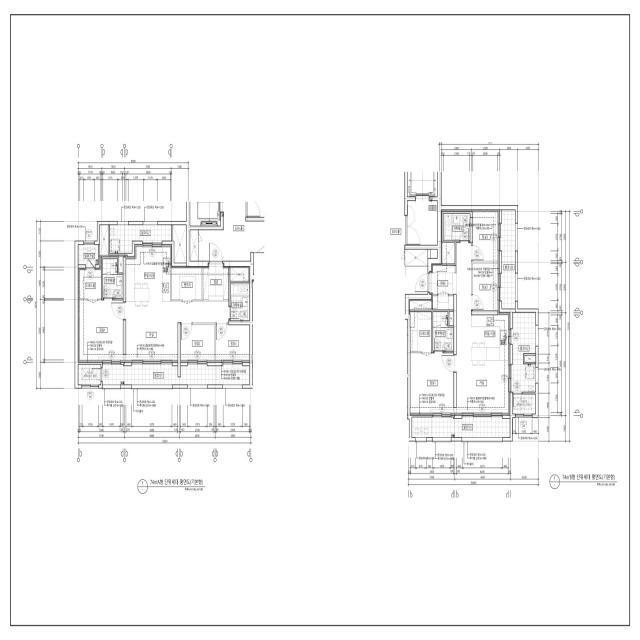space_balconi: (78, 364, 249, 385), (511, 313, 536, 414), (412, 417, 510, 438), (110, 225, 172, 253), (501, 210, 515, 309)
space_bedroom: (78, 300, 123, 362), (410, 353, 454, 415), (473, 210, 499, 261), (216, 325, 250, 362), (473, 264, 499, 311), (181, 325, 214, 362)
space_dressroom: (410, 312, 432, 352), (78, 268, 101, 299)
space_elevator: (407, 172, 437, 197), (190, 202, 221, 226)
space_elevator_hall: (199, 202, 264, 261), (404, 201, 438, 245), (405, 266, 428, 294)
space_front: (429, 264, 456, 310), (203, 264, 229, 300)
space_kitchen: (126, 245, 172, 301), (471, 313, 510, 365)
space_living_room: (456, 243, 510, 415), (126, 301, 229, 362)
space_other: (172, 267, 201, 300), (173, 225, 186, 263), (405, 249, 428, 266), (441, 243, 455, 264), (230, 267, 250, 281), (100, 225, 108, 257), (190, 230, 198, 261), (409, 300, 431, 310), (119, 255, 123, 273), (430, 249, 437, 258), (525, 356, 535, 362)
space_outdoor_room: (78, 245, 98, 265)
space_toilet: (103, 259, 123, 298), (433, 312, 453, 351), (230, 283, 249, 321), (444, 214, 470, 240)
